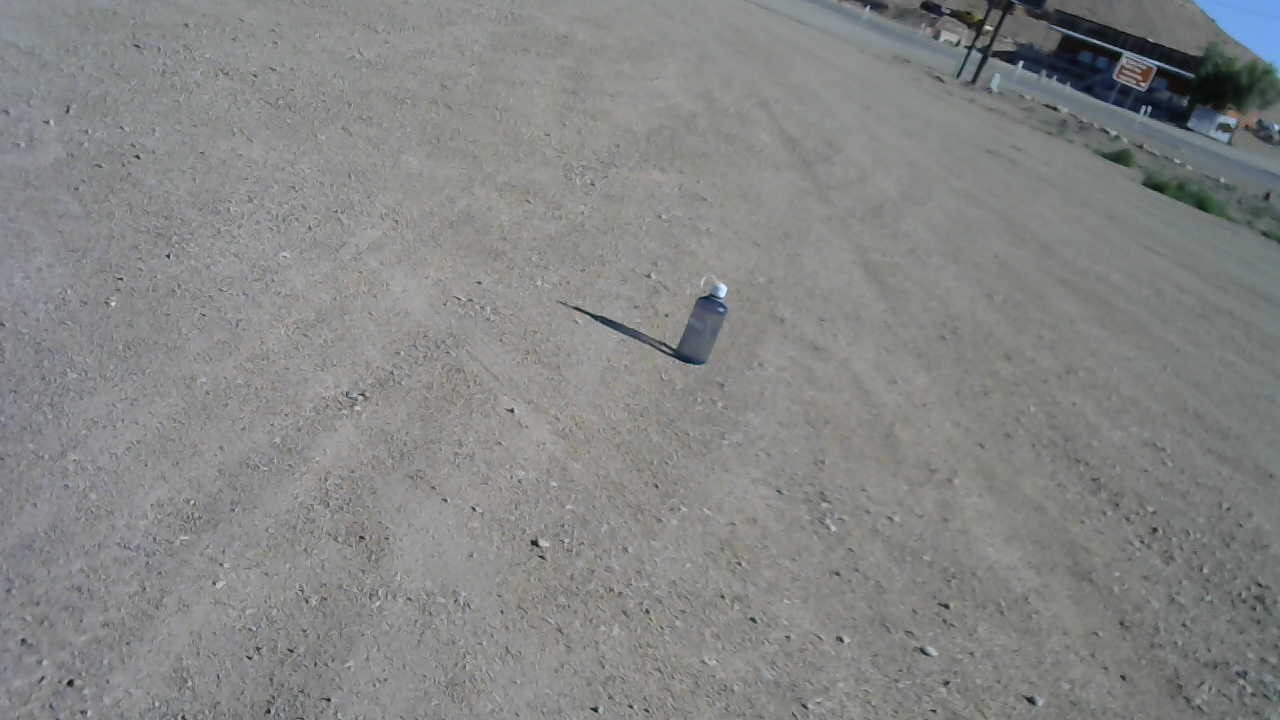bottle: (671, 269, 728, 366)
